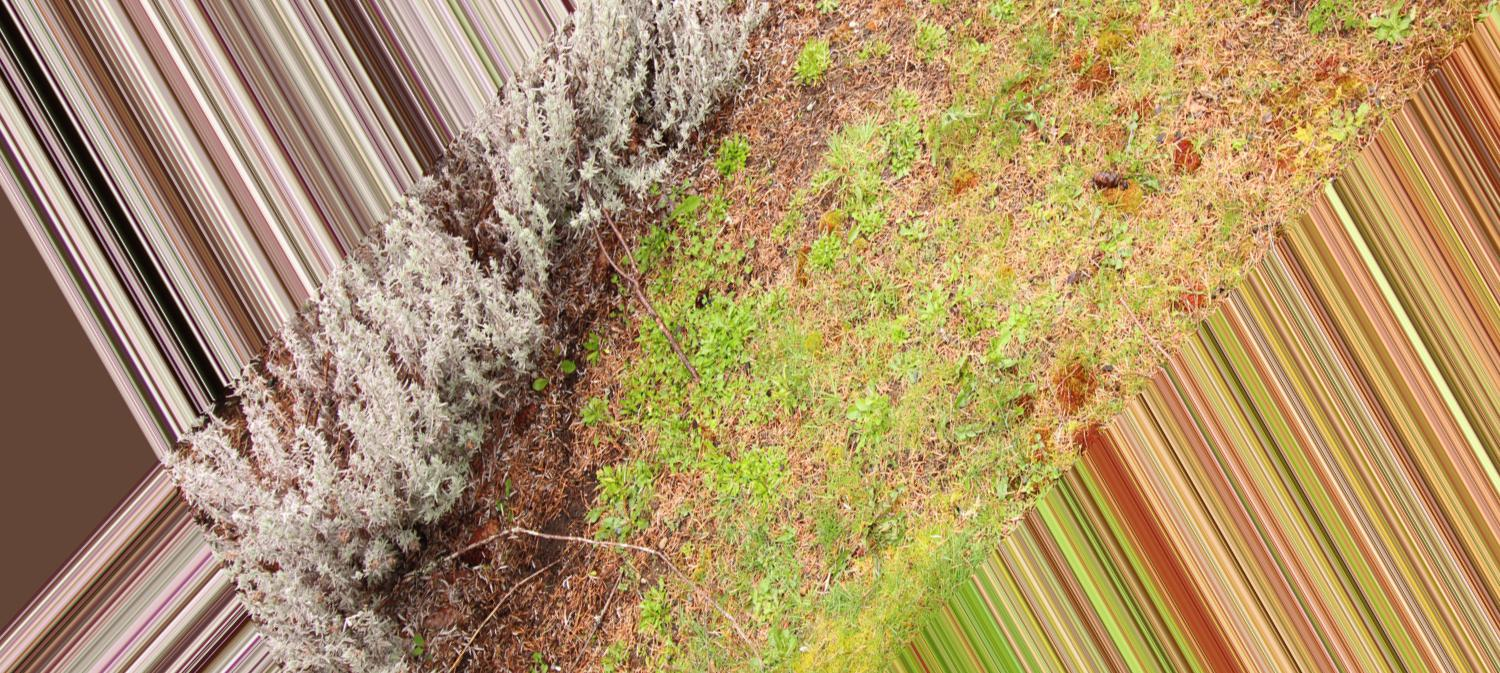patch: (897, 225, 1070, 350), (709, 159, 838, 270), (797, 34, 908, 140)
